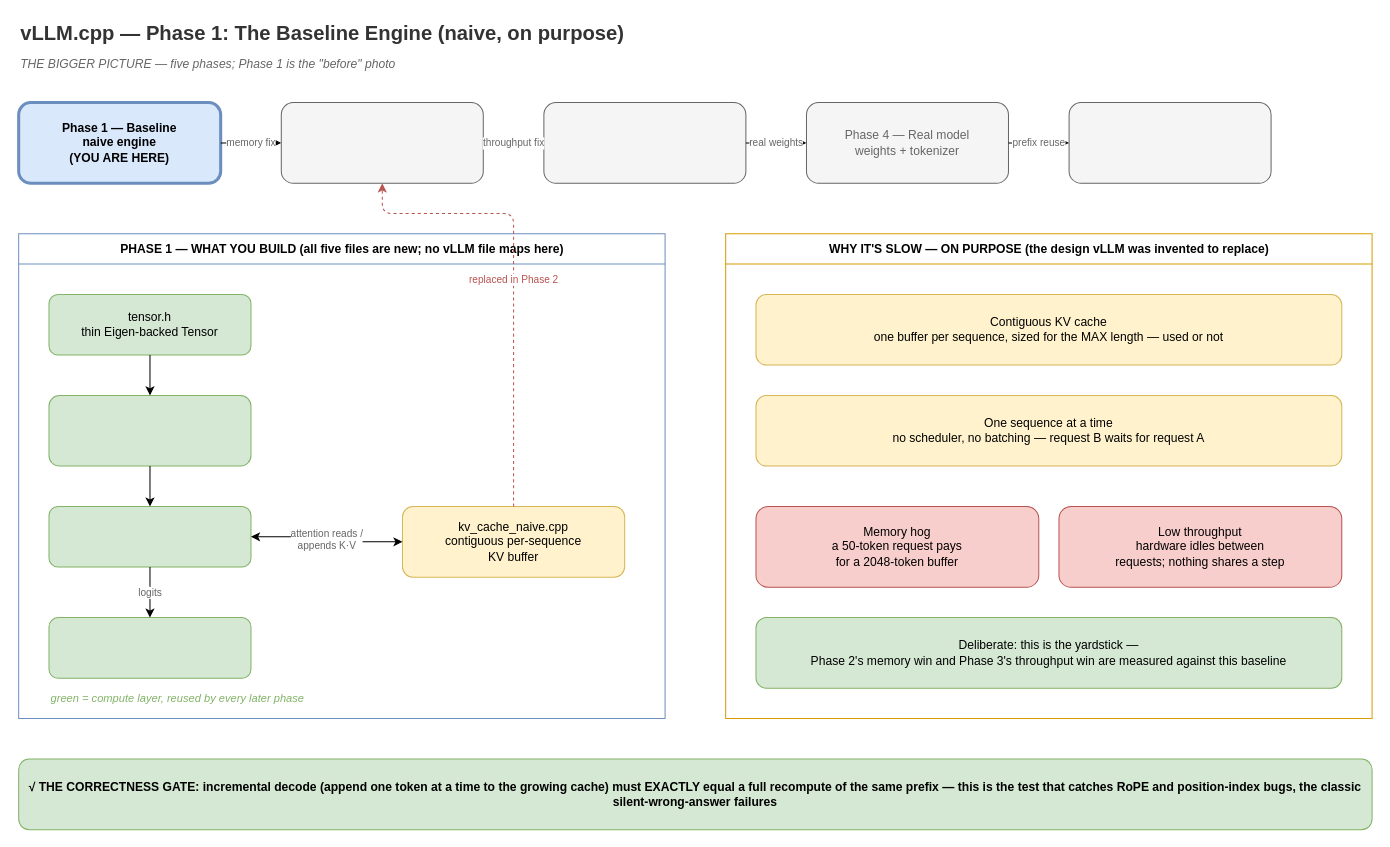
The diagram is 1390 pixels wide and 847 high, and some of its shapes have lost their labels. The centre of each missing label's shape, as x and y in pixels:
"model.h Llama-style decoder block" goes at [149,536].
"ops.h matmul · softmax · RMSNorm RoPE · SiLU" goes at [149,430].
"Phase 2 — Paged KV cache blocks, free list, hashing" goes at [381,142].
"Phase 3 — Scheduler continuous batching" goes at [644,142].
"Phase 5 — Prefix caching (optional)" goes at [1169,142].
"sampler.h greedy · temperature · top-p" goes at [149,647].
